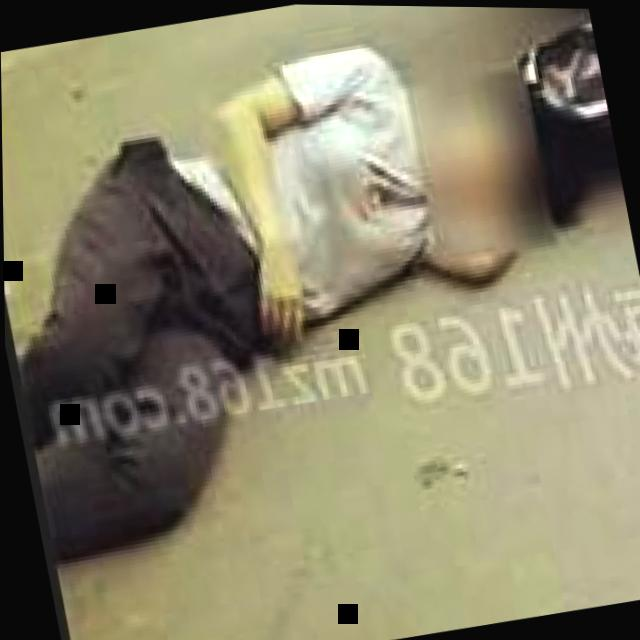Fall-Detected: (0, 0, 640, 593)
